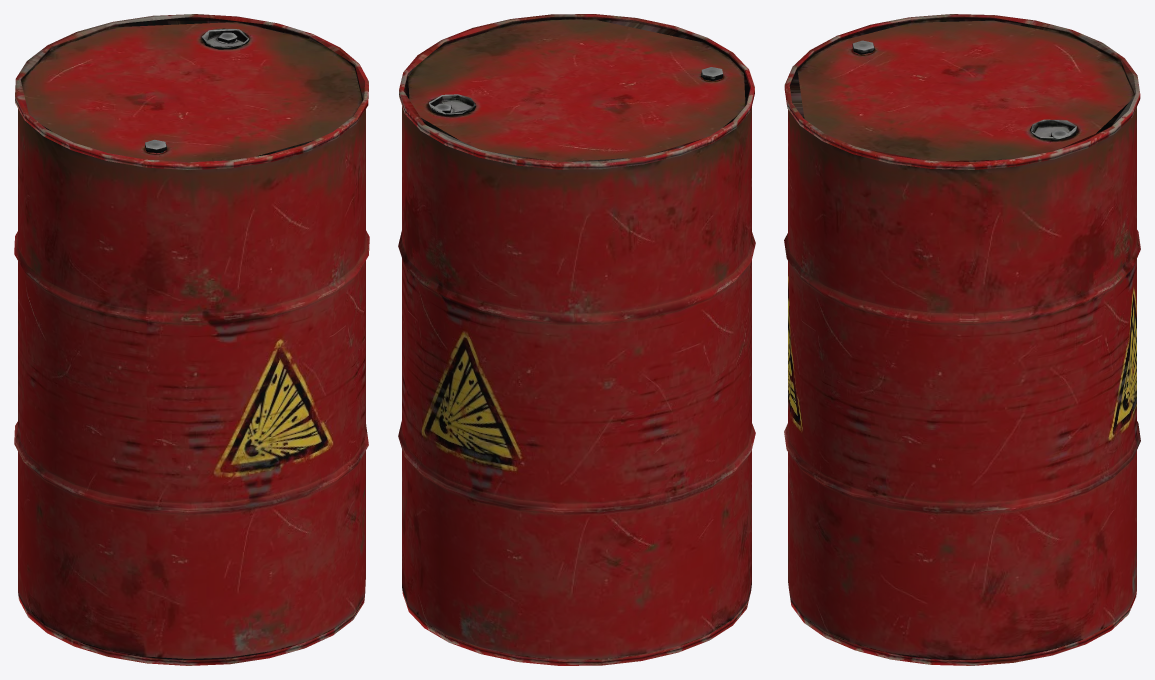
File: Barrel_01.glb
3 views of the same model, side by side, from view 1: azimuth 30°, elevation 25°; view 2: azimuth 150°, elevation 25°; view 3: azimuth 270°, elevation 25° (orthographic).
Visible parts, largest first — view 1: Barrel_01; view 2: Barrel_01; view 3: Barrel_01.
Part boxes in pixels (bbox=[...]): Barrel_01: bbox=[14, 14, 369, 665]; Barrel_01: bbox=[398, 14, 755, 665]; Barrel_01: bbox=[784, 14, 1140, 665].
Size of the model in its own units: 0.5627 by 0.8789 by 0.5627.
1 material, 1 textured.
